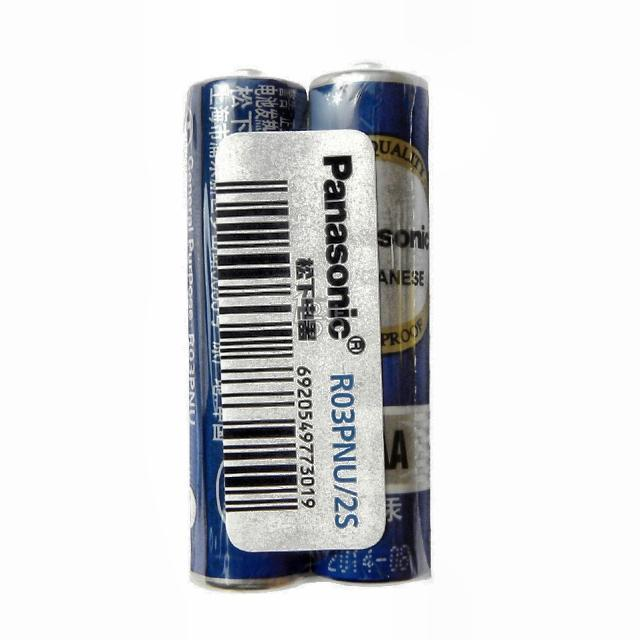battery: (188, 67, 431, 589)
